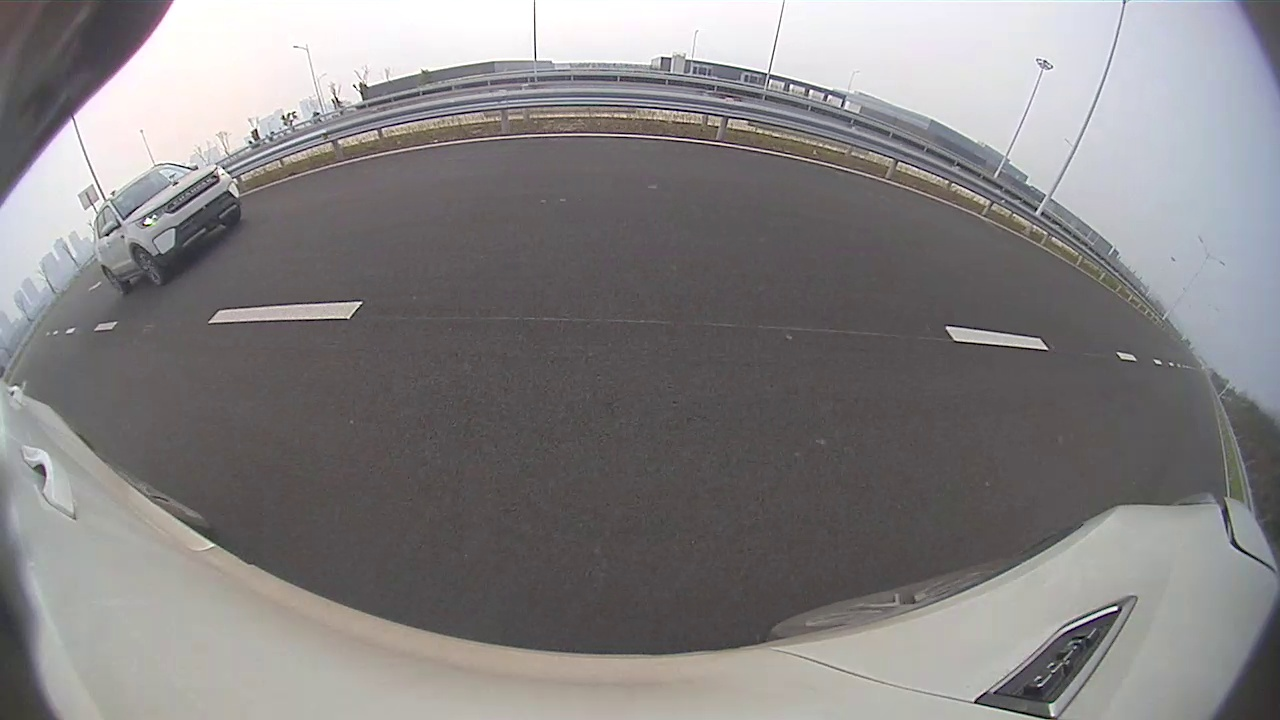car: (219, 143, 476, 295)
front: (447, 192, 475, 232)
rear: (332, 218, 385, 285)
